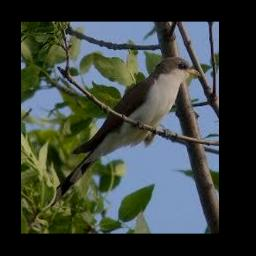Cuckoo: (46, 57, 202, 208)
